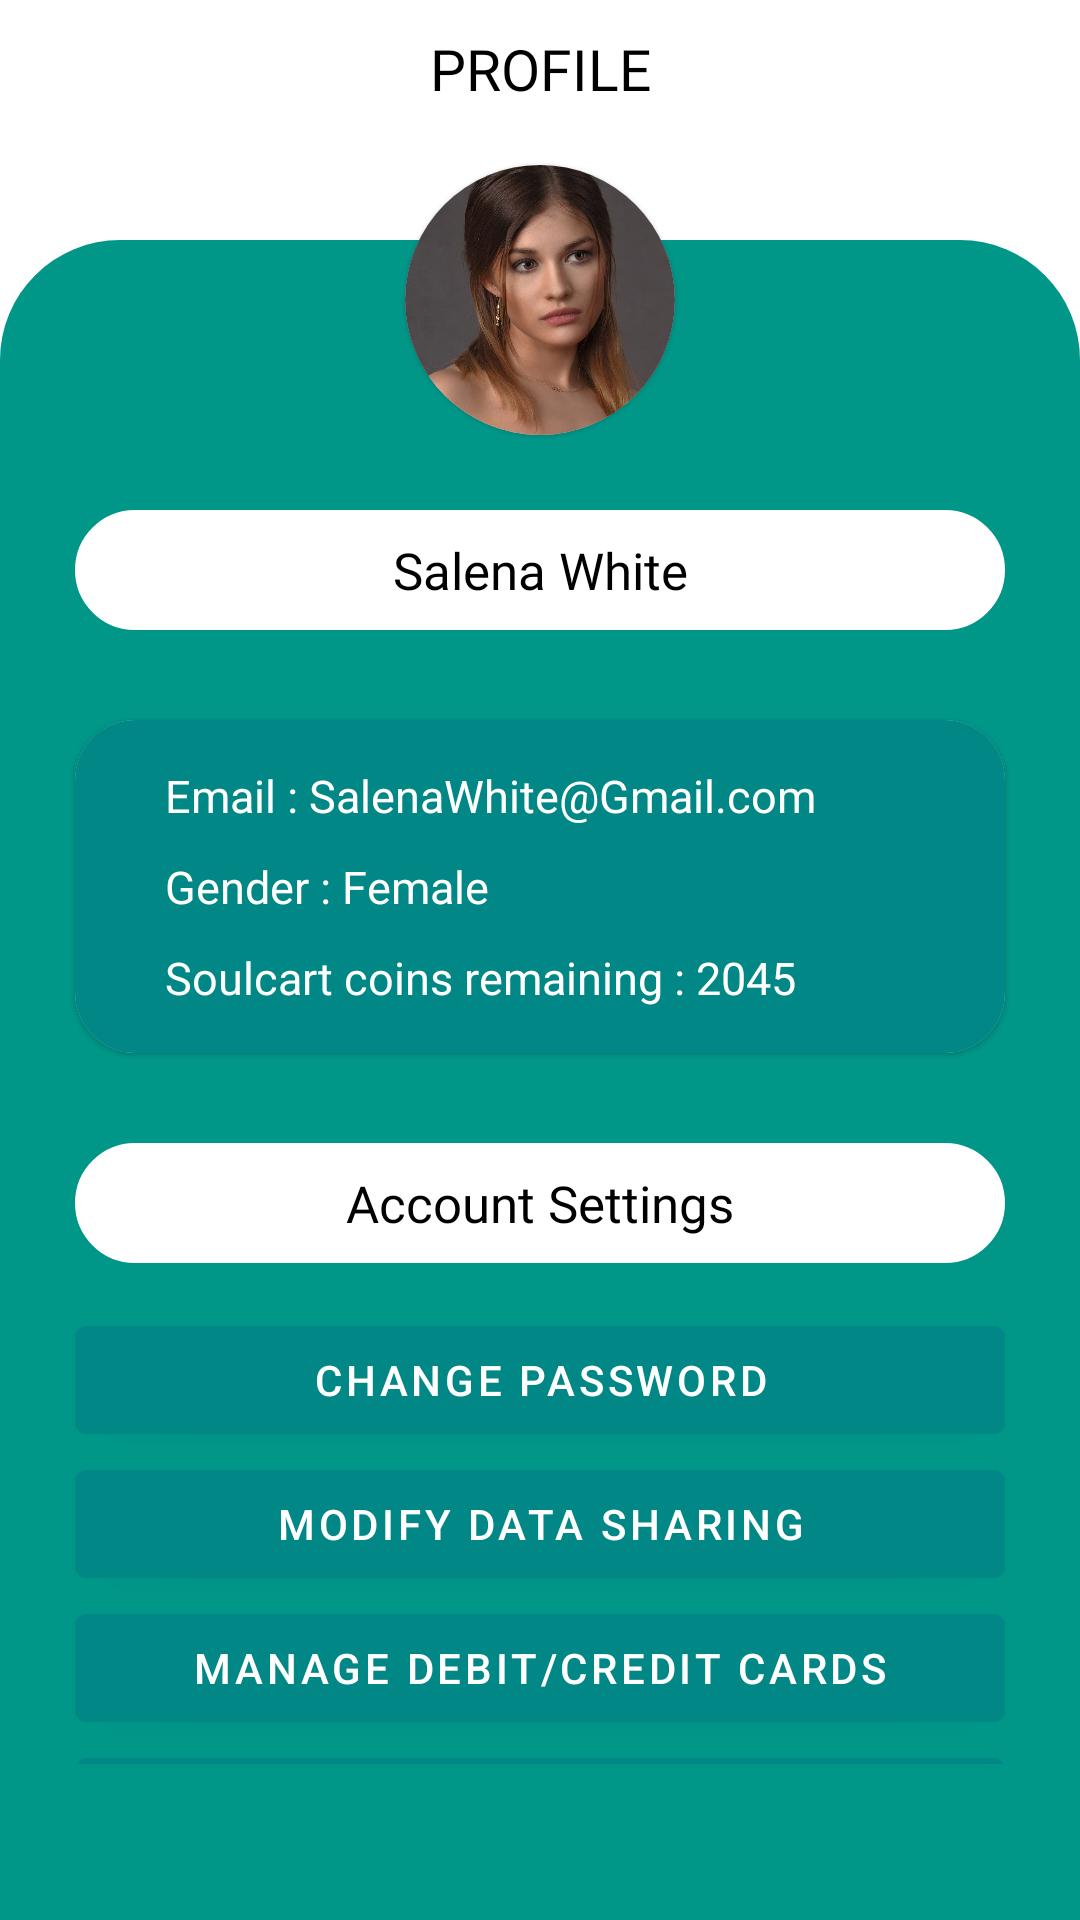

Icons on this 1080px×1920px Android screen, each with its box as (x1, y1, x2, y2):
girl: (405, 165, 675, 435)
